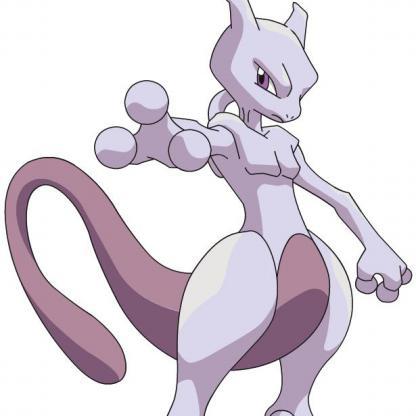Mewtwo: (1, 14, 416, 416)
